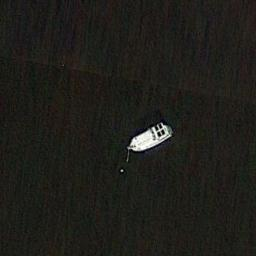boat: (126, 120, 173, 152)
